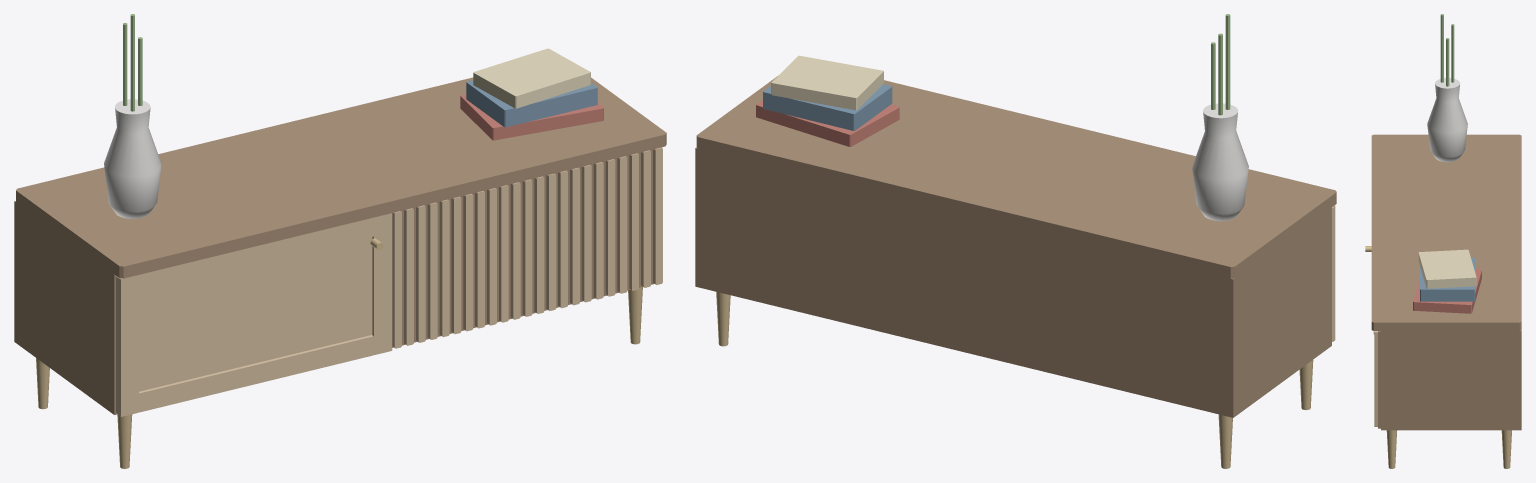
3 views of the same model, side by side, from view 1: azimuth 30°, elevation 25°; view 2: azimuth 150°, elevation 25°; view 3: azimuth 270°, elevation 25° (orthographic). The views are drawn at different scales.
Parts seen in each view (by area): view 1: Kệ tivi Dài=1200; Sâu=400; view 2: Kệ tivi Dài=1200; Sâu=400; view 3: Kệ tivi Dài=1200; Sâu=400.
Boxes of the visible parts, x1=… form: Kệ tivi Dài=1200; Sâu=400: x1=14, y1=14, x2=666, y2=468; Kệ tivi Dài=1200; Sâu=400: x1=695, y1=14, x2=1336, y2=468; Kệ tivi Dài=1200; Sâu=400: x1=1365, y1=14, x2=1521, y2=468.
Size of the model in its own units: 1.2 by 0.87 by 0.422.
